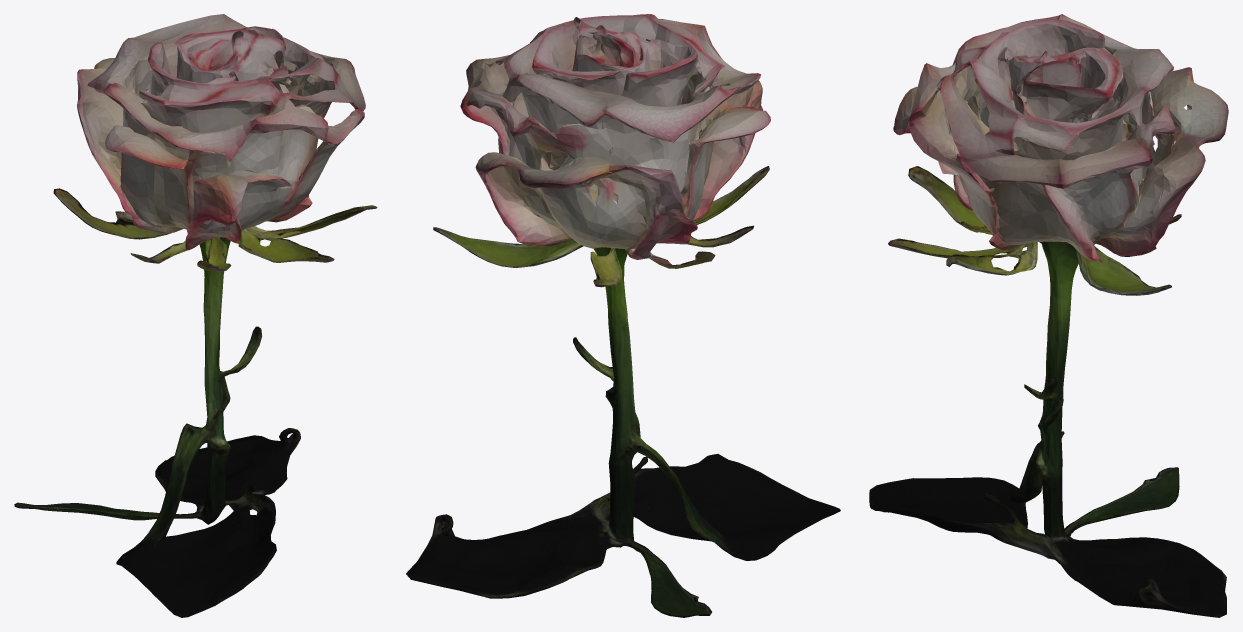
3 views of the same model, side by side, from view 1: azimuth 30°, elevation 25°; view 2: azimuth 150°, elevation 25°; view 3: azimuth 270°, elevation 25° (orthographic). The views are drawn at different scales.
Visible parts, largest first — view 1: world; view 2: world; view 3: world.
Part boxes in pixels (x1,y1,x2,y2): world: [14, 14, 377, 617]; world: [406, 14, 840, 617]; world: [869, 14, 1228, 617].
Size of the model in its own units: 0.6065 by 0.9886 by 0.6266.
1 material, 1 textured.
